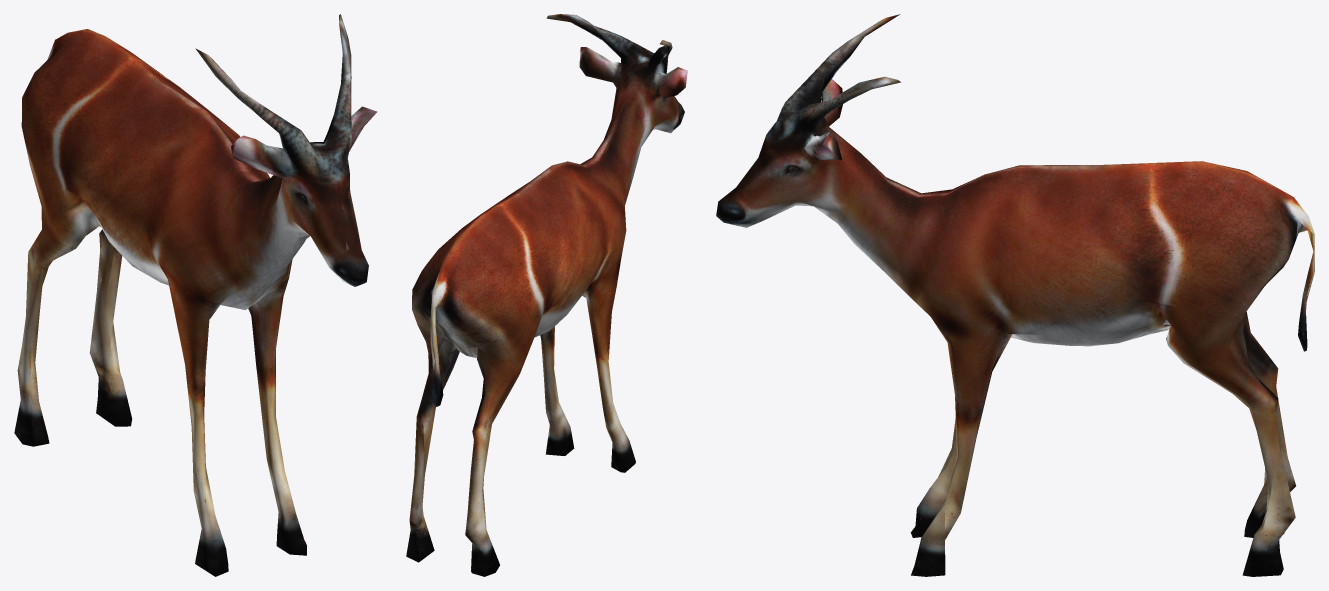
File: uploads_files_5014829_Antelope_Low_Poly.fbx
The picture shows the model from 3 angles, left to right: view 1: azimuth 30°, elevation 25°; view 2: azimuth 150°, elevation 25°; view 3: azimuth 270°, elevation 25°; orthographic projection. The views are drawn at different scales.
Visible parts, largest first — view 1: Antelope_Low_Poly; view 2: Antelope_Low_Poly; view 3: Antelope_Low_Poly.
Part boxes in pixels (x1,y1,x2,y2): Antelope_Low_Poly: (14, 14, 377, 576); Antelope_Low_Poly: (406, 14, 687, 576); Antelope_Low_Poly: (716, 14, 1314, 576).
Size of the model in its own units: 36.67 by 131 by 140.
